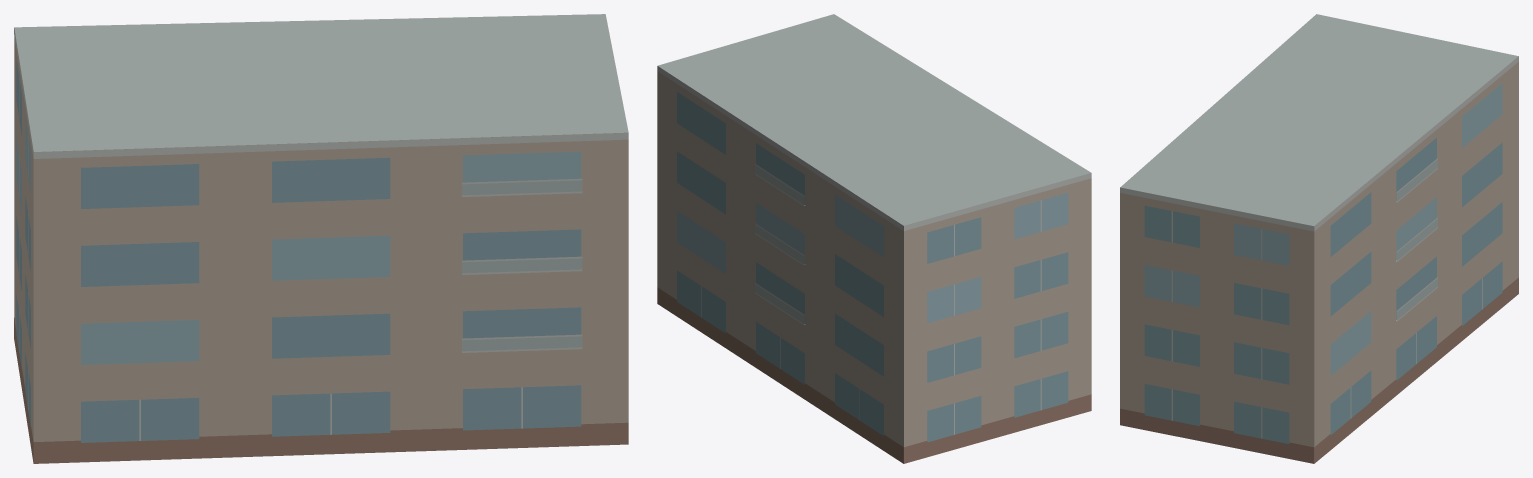
Rendered from survey-upis-32891660.glb.
The picture shows the model from 3 angles, left to right: view 1: azimuth 30°, elevation 25°; view 2: azimuth 150°, elevation 25°; view 3: azimuth 270°, elevation 25°; orthographic projection. The views are drawn at different scales.
Parts seen in each view (by area): view 1: survey-upis-32891660.tmp; view 2: survey-upis-32891660.tmp; view 3: survey-upis-32891660.tmp.
Boxes of the visible parts, box(x1,y1,x2,y2) form: survey-upis-32891660.tmp: box(14, 14, 628, 463); survey-upis-32891660.tmp: box(657, 14, 1091, 463); survey-upis-32891660.tmp: box(1120, 14, 1518, 463).
Bounding box in the file's own units: 20.88 × 10.9 × 16.58.
